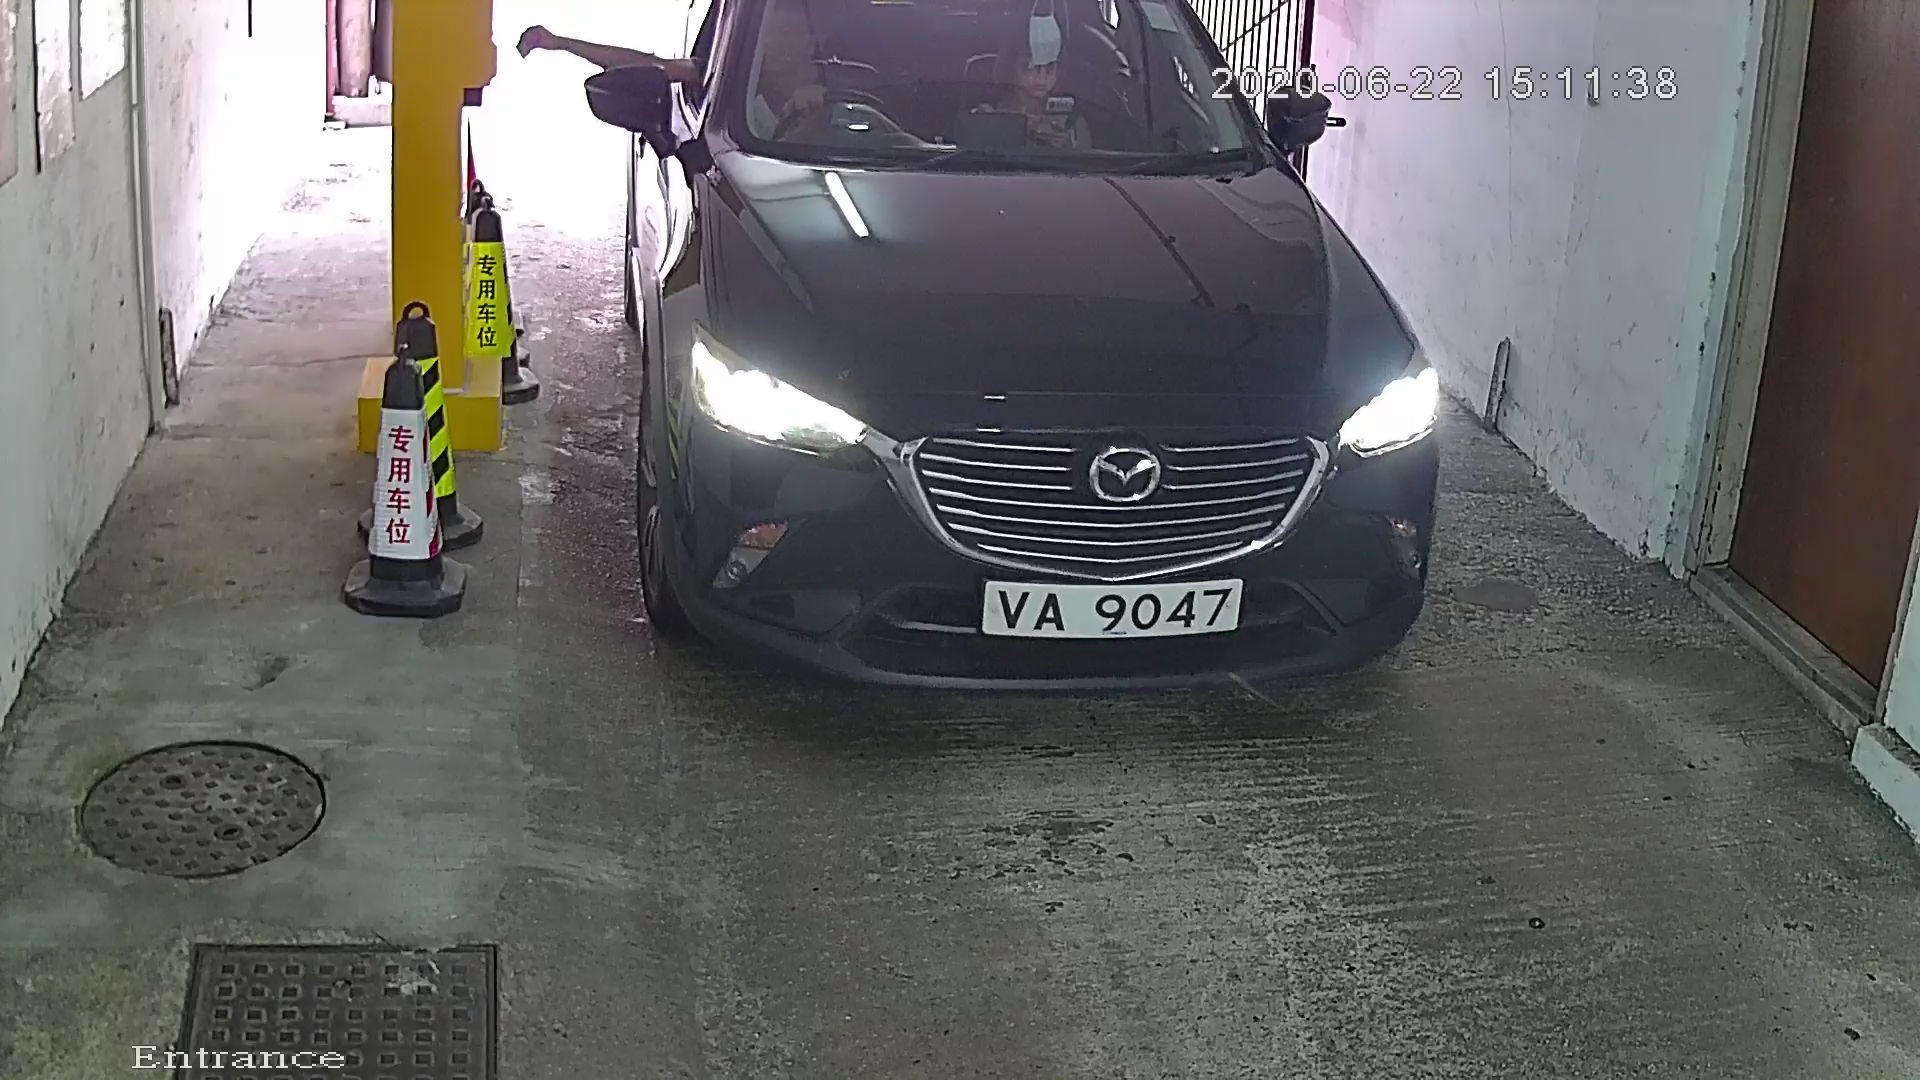privatecar: (535, 1, 1509, 742)
